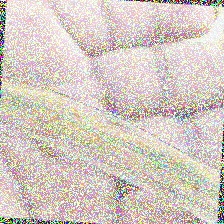Leaf_Blast: (5, 81, 208, 200)
